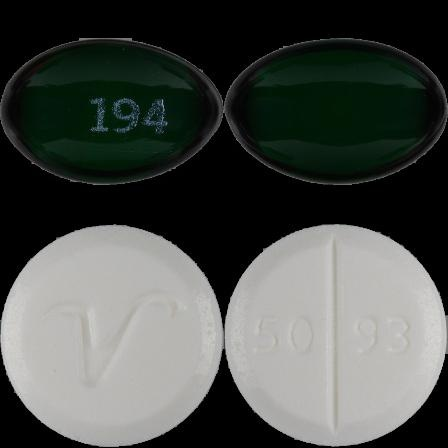68788-6409: (0, 0, 224, 224)
